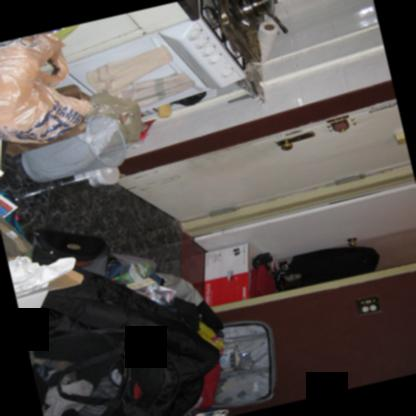backpack: (25, 265, 226, 416)
handbag: (32, 229, 107, 276)
suitcase: (205, 322, 274, 409)
